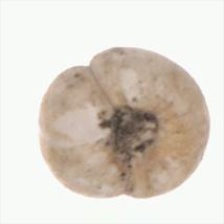L4: (36, 46, 210, 199)
